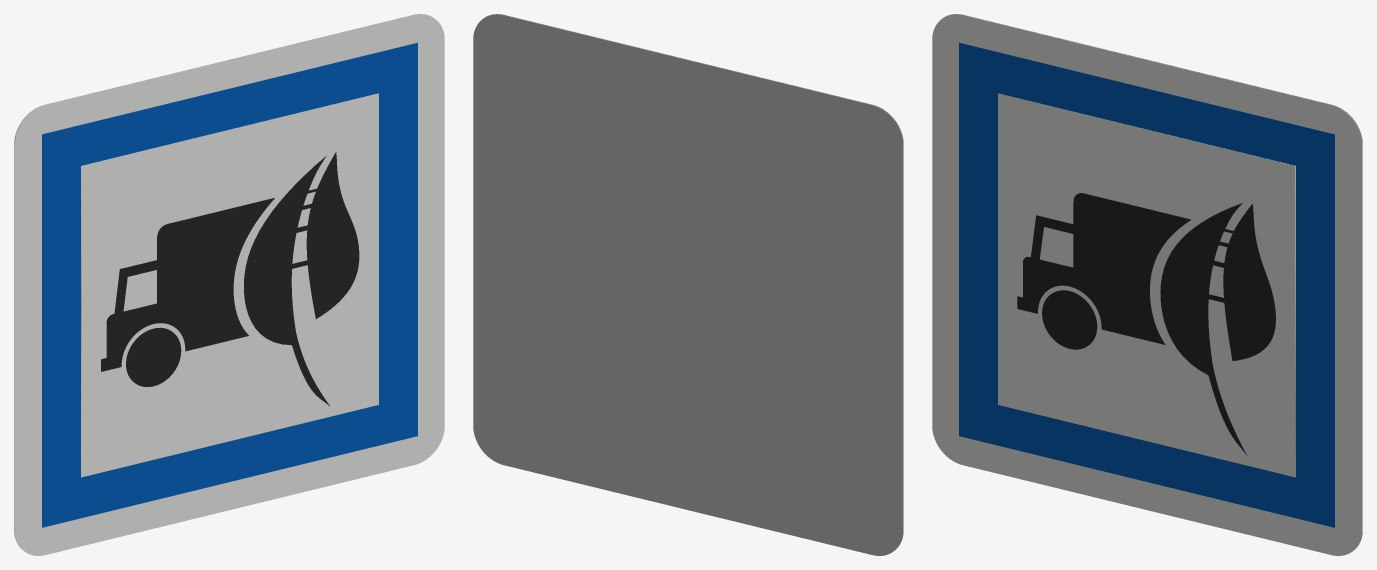
3 views of the same model, side by side, from view 1: azimuth 30°, elevation 25°; view 2: azimuth 150°, elevation 25°; view 3: azimuth 330°, elevation 25° (orthographic).
Parts seen in each view (by area): view 1: CE51_p02, CE51_p01, CE51_p00, CE51_p04, CE51_p03, CE51_p05, CE51_dos; view 2: CE51_dos, CE51_p00; view 3: CE51_p02, CE51_p01, CE51_p00, CE51_p04, CE51_p03, CE51_p05, CE51_dos.
Boxes of the visible parts, x1=… form: CE51_p02: x1=81, y1=93, x2=378, y2=477; CE51_p01: x1=42, y1=42, x2=417, y2=527; CE51_p00: x1=14, y1=14, x2=444, y2=555; CE51_p04: x1=101, y1=198, x2=274, y2=371; CE51_p03: x1=244, y1=152, x2=359, y2=406; CE51_p05: x1=126, y1=327, x2=181, y2=386; CE51_dos: x1=14, y1=14, x2=431, y2=547; CE51_dos: x1=473, y1=14, x2=903, y2=555; CE51_p00: x1=486, y1=14, x2=903, y2=547; CE51_p02: x1=998, y1=93, x2=1295, y2=477; CE51_p01: x1=959, y1=42, x2=1334, y2=527; CE51_p00: x1=932, y1=14, x2=1362, y2=555; CE51_p04: x1=1017, y1=193, x2=1190, y2=344; CE51_p03: x1=1160, y1=203, x2=1275, y2=455; CE51_p05: x1=1042, y1=290, x2=1097, y2=349; CE51_dos: x1=945, y1=14, x2=1362, y2=547.
Bounding box in the file's own units: 0.7 × 0.6999 × 0.0039.
